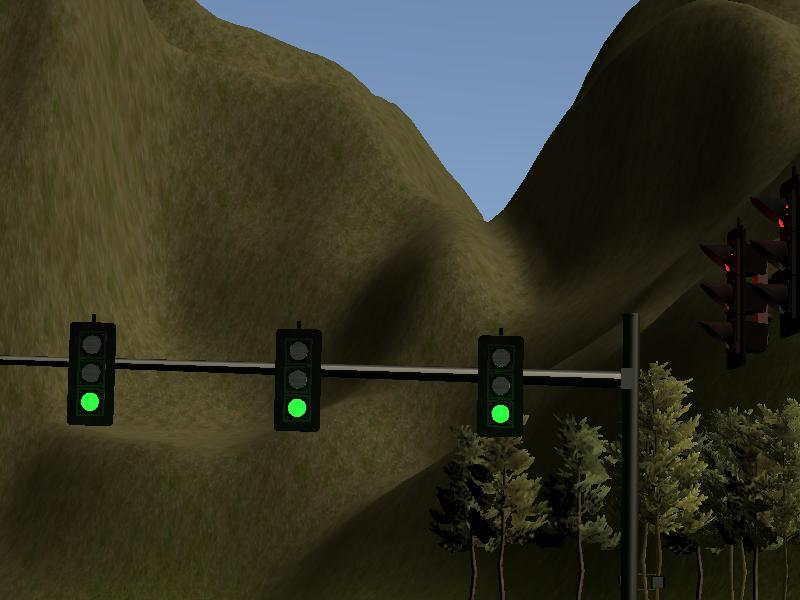Green: (69, 322, 112, 425), (277, 330, 318, 429), (480, 339, 522, 435)
